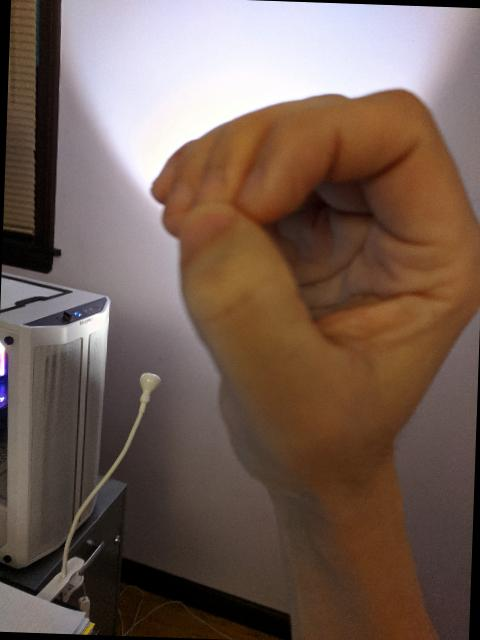O: (132, 73, 480, 509)
